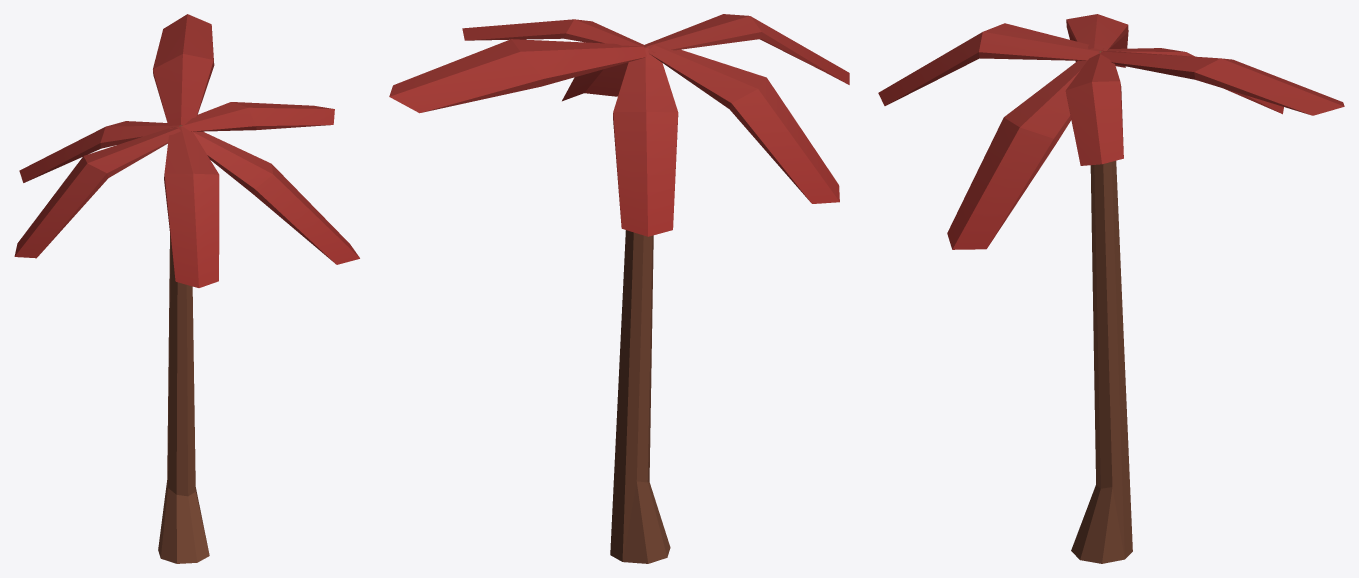
The model's file is Tree_39_gradient_red_vc.fbx.
The picture shows the model from 3 angles, left to right: view 1: azimuth 30°, elevation 25°; view 2: azimuth 150°, elevation 25°; view 3: azimuth 270°, elevation 25°; orthographic projection. The views are drawn at different scales.
Visible parts, largest first — view 1: Tree_39_gradient_red_vc; view 2: Tree_39_gradient_red_vc; view 3: Tree_39_gradient_red_vc.
Part boxes in pixels (bbox=[...]): Tree_39_gradient_red_vc: bbox=[14, 14, 359, 563]; Tree_39_gradient_red_vc: bbox=[389, 14, 849, 563]; Tree_39_gradient_red_vc: bbox=[878, 14, 1344, 563].
Bounding box in the file's own units: 152 × 204 × 166.
